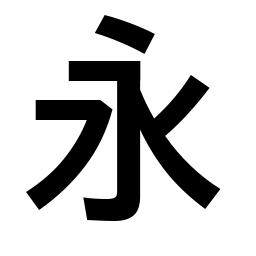D: (94, 12, 156, 55)
HSZ: (111, 57, 141, 94)
Hs: (65, 58, 105, 84)
Ne: (185, 172, 223, 211)
PNc: (145, 106, 172, 149)
PZe: (23, 183, 59, 211)
Ps: (179, 72, 210, 102)
SG: (81, 187, 141, 222)
Sm: (114, 150, 143, 179)
TPZ: (77, 97, 113, 138)
Ts: (31, 97, 63, 123)
